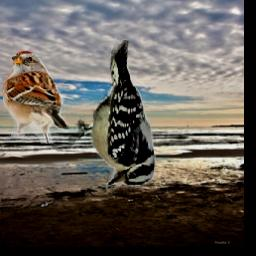Sparrow: (1, 49, 68, 144)
Woodpecker: (69, 40, 158, 189)
